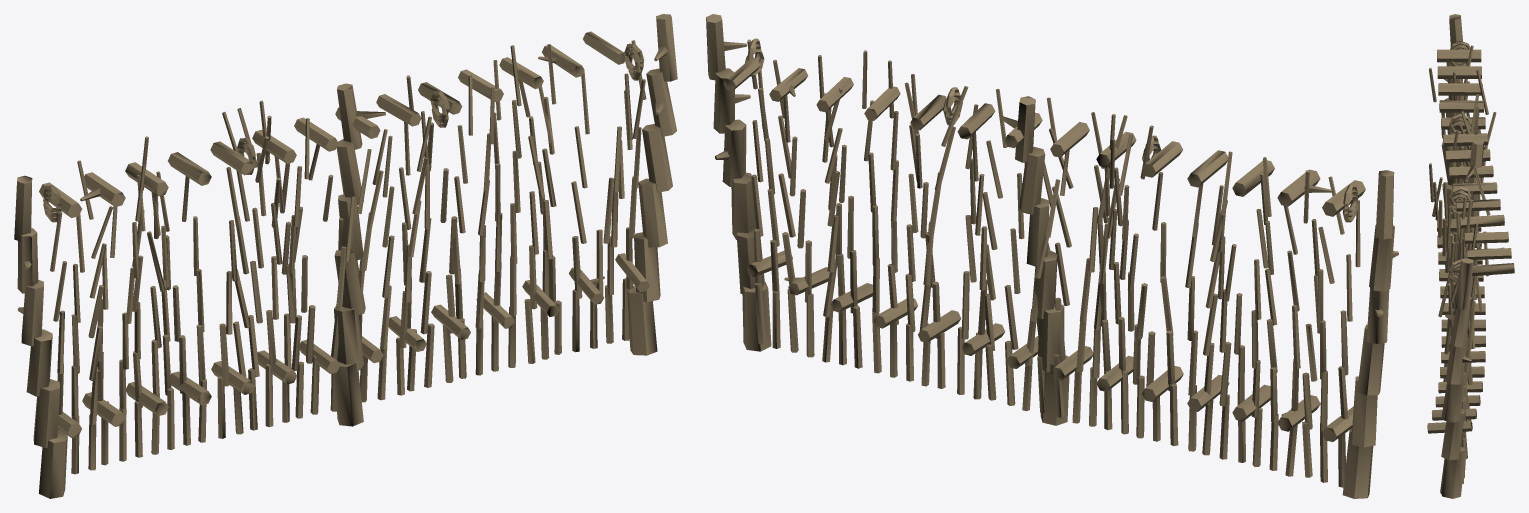
The model's file is palm.glb.
3 views of the same model, side by side, from view 1: azimuth 30°, elevation 25°; view 2: azimuth 150°, elevation 25°; view 3: azimuth 270°, elevation 25° (orthographic). The views are drawn at different scales.
Parts seen in each view (by area): view 1: palm; view 2: palm; view 3: palm.
Part boxes in pixels (bbox=[...]): palm: bbox=[14, 14, 677, 498]; palm: bbox=[706, 14, 1398, 498]; palm: bbox=[1427, 14, 1514, 498].
Size of the model in its own units: 4.57 by 2.15 by 0.675.
